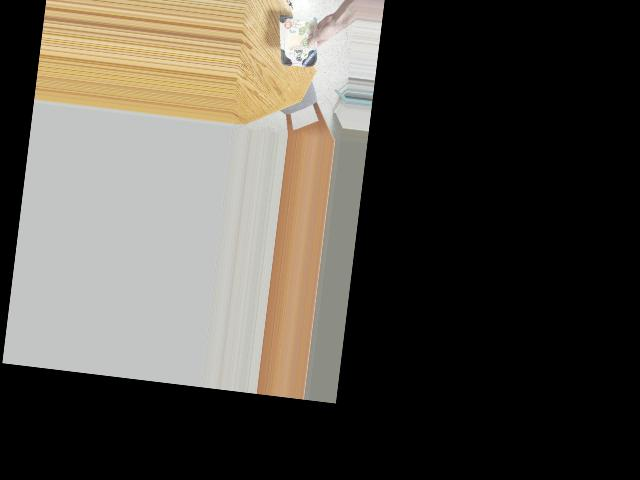cheese: (273, 7, 324, 76)
